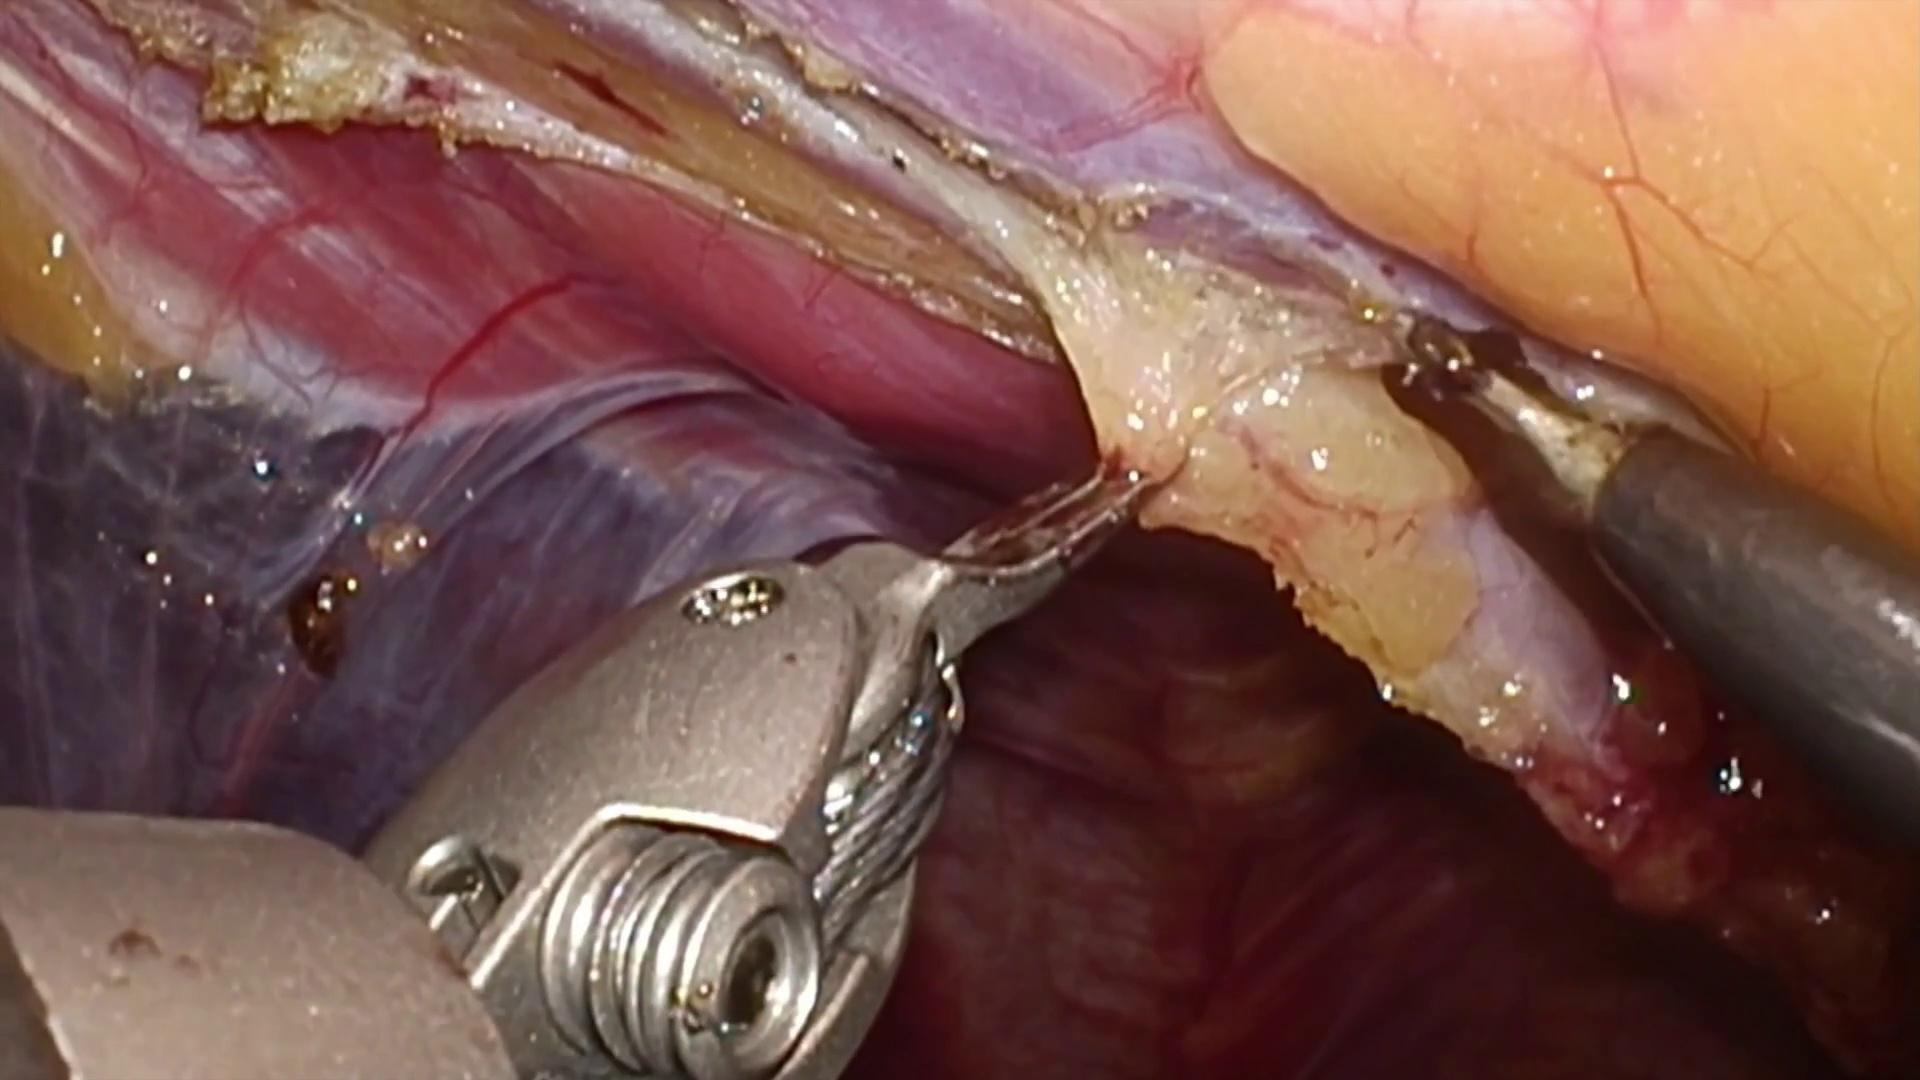Cautery_Spatula: (1385, 316, 1920, 857)
Debakey: (806, 409, 1185, 704)
